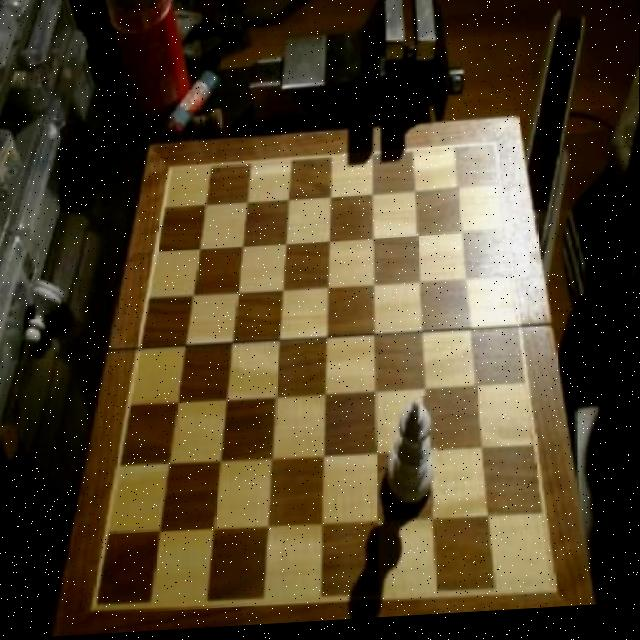white-bishop: (389, 401, 441, 518)
